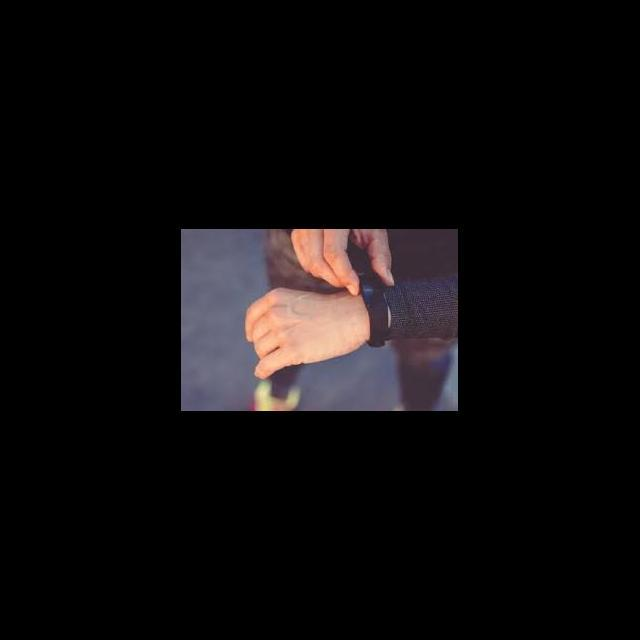watch: (335, 250, 407, 359)
